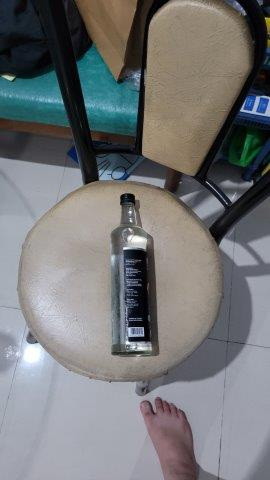botolkaca: (105, 192, 159, 361)
